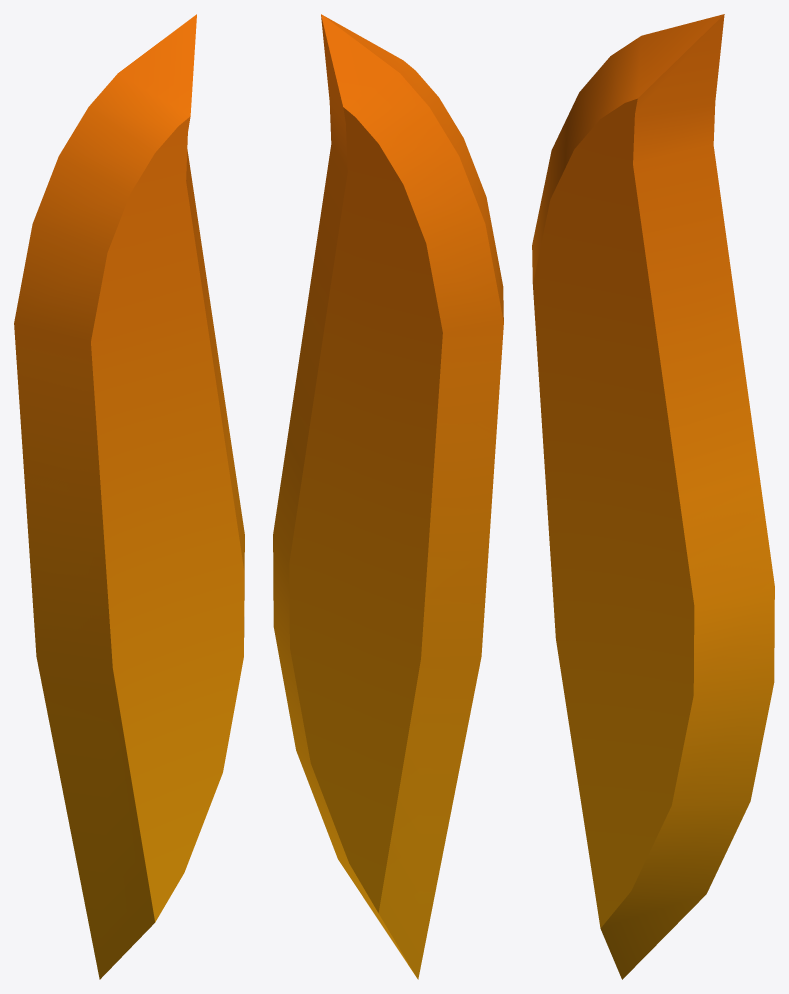
Rendered from FlameShape03.fbx.
3 views of the same model, side by side, from view 1: azimuth 30°, elevation 25°; view 2: azimuth 150°, elevation 25°; view 3: azimuth 330°, elevation 25° (orthographic). The views are drawn at different scales.
Parts seen in each view (by area): view 1: FlameShape03; view 2: FlameShape03; view 3: FlameShape03.
Part boxes in pixels (box(x1,y1,x2,y2)): FlameShape03: box(14, 14, 244, 979); FlameShape03: box(273, 14, 503, 979); FlameShape03: box(532, 14, 774, 979).
Bounding box in the file's own units: 24.53 × 95.63 × 11.09.
Materials: 1 (1 with a texture image).
